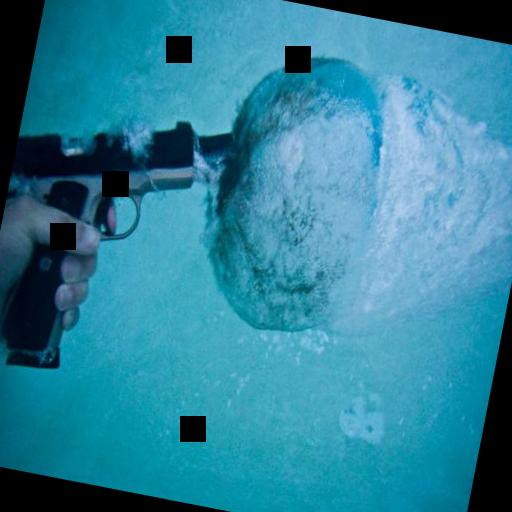Handgun: (0, 82, 206, 393)
